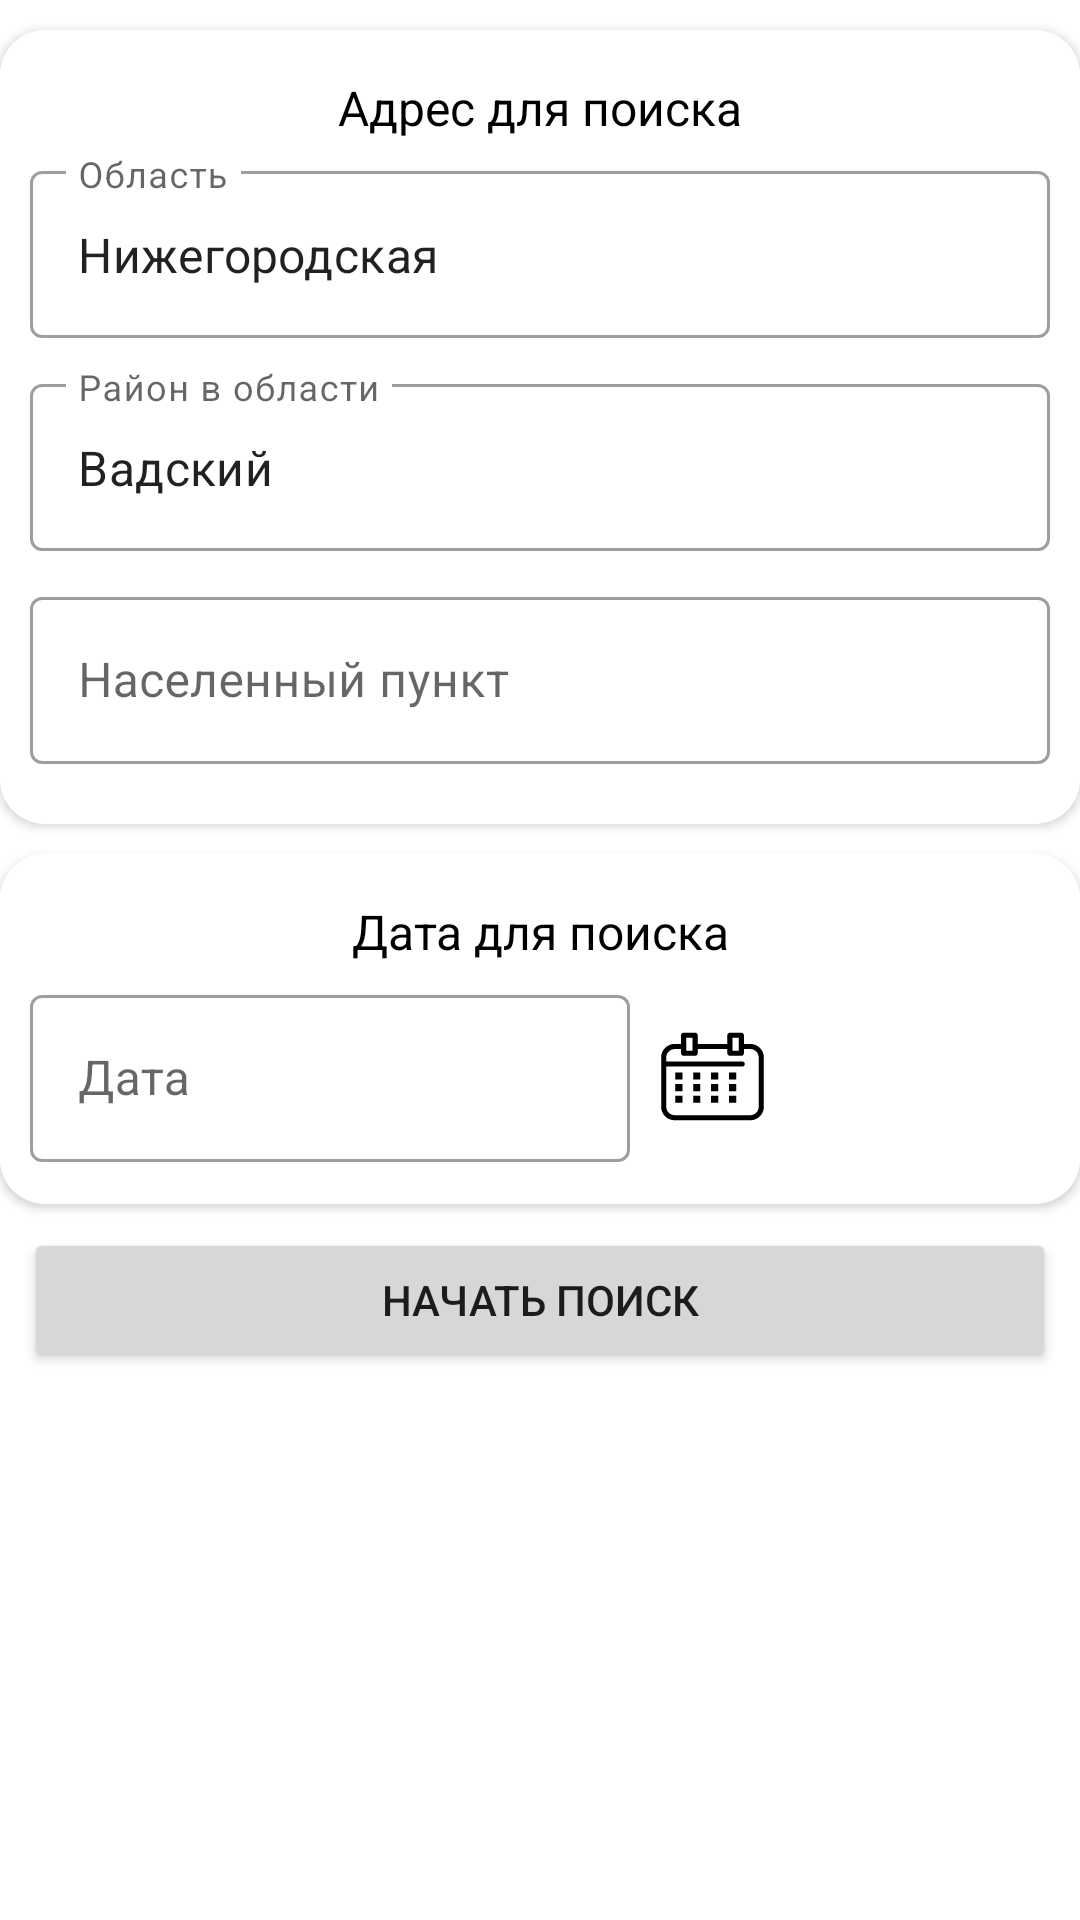

Locate icon controls on the screen. Image size 1080 x 1920, boxes as (x1, y1, x2, y2).
calendar: (661, 1032, 764, 1121)
